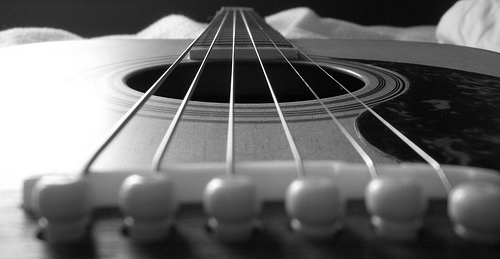guitar: (1, 1, 499, 259)
